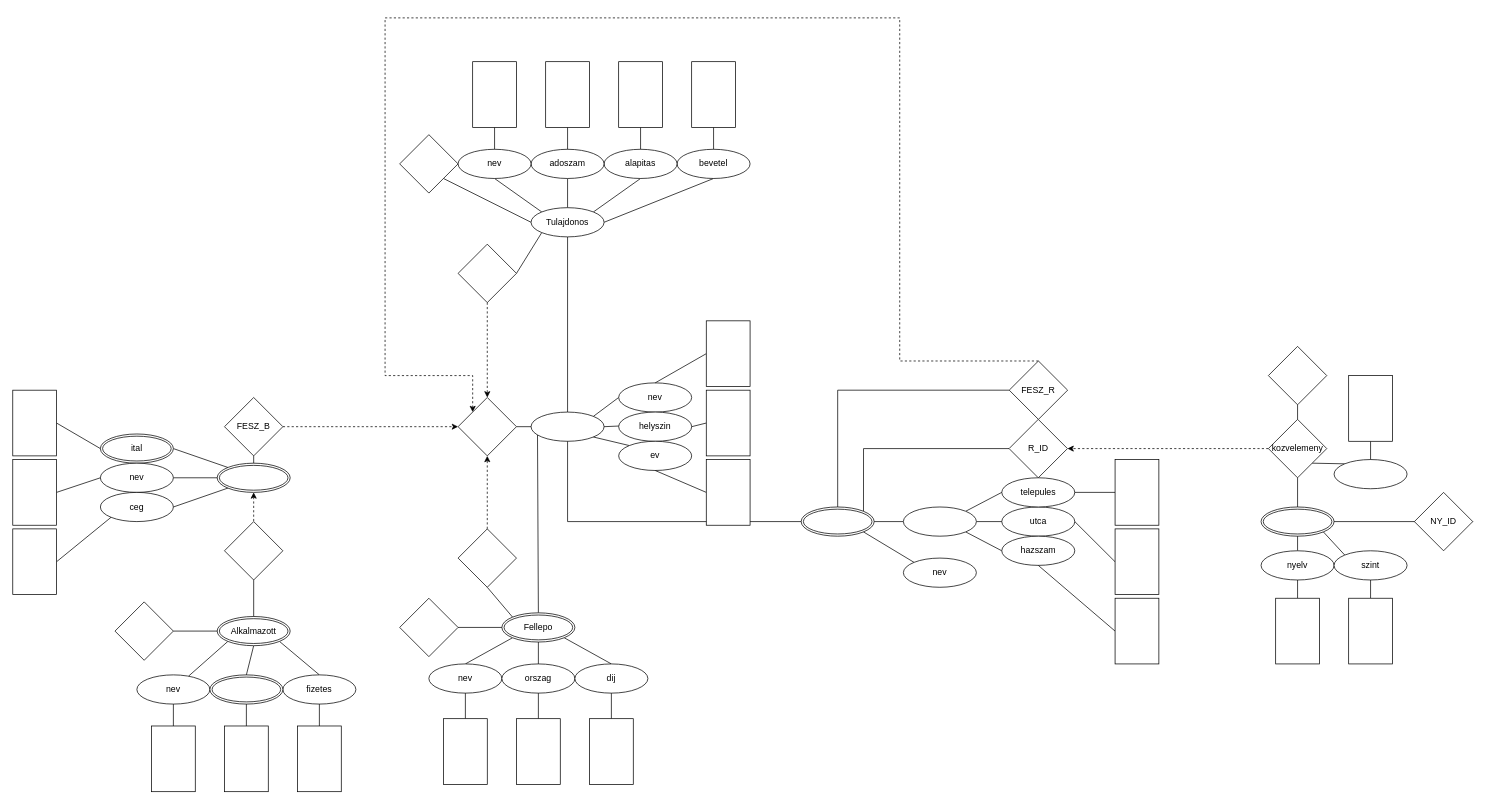
This 1486x804 diagram has some shape labels left out. Here are the shapes that lost their labels. From the top down, the centre of each, then its label:
At pixel 428 163: "T_ID".
At pixel 486 273: "FESZ_T".
At pixel 1297 375: "K_ID".
At pixel 486 426: "FESZ_ID".
At pixel 567 426: "IIJU0ZFesztival".
At pixel 253 477: "Bar".
At pixel 1370 474: "kerdezo".
At pixel 837 521: "Resztvevo".
At pixel 939 521: "cim".
At pixel 1297 521: "Nyelvtudas".
At pixel 253 550: "B_A".
At pixel 486 557: "FEL_FESZ".
At pixel 143 630: "A_ID".
At pixel 428 627: "FEL_ID".
At pixel 246 689: "muszak".
